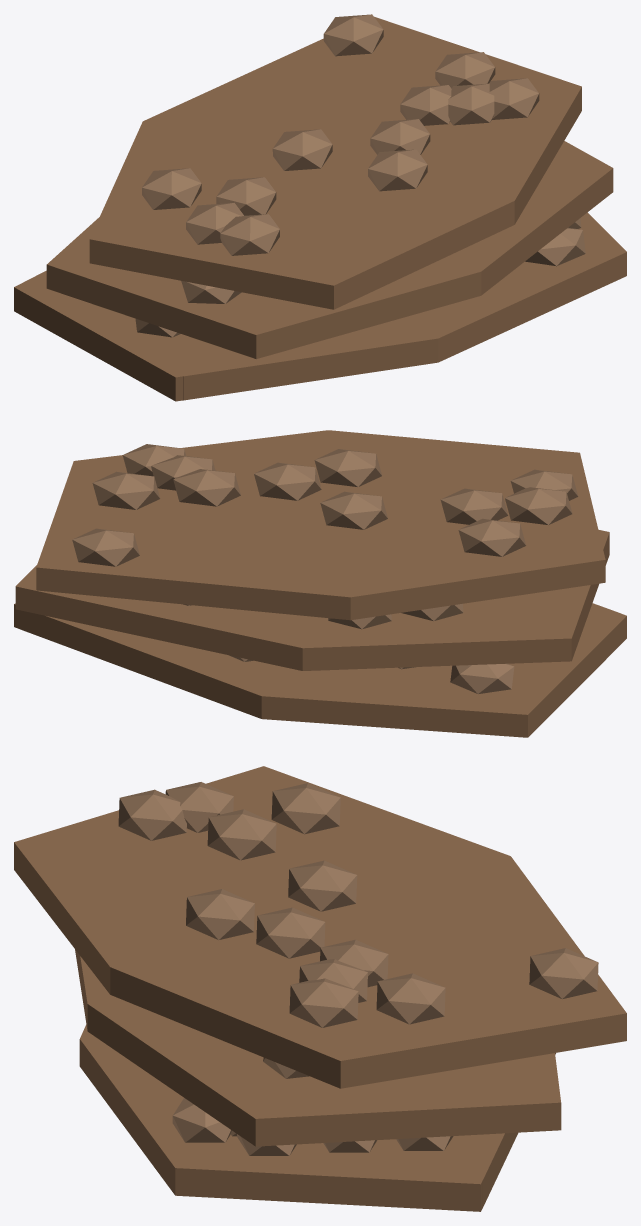
Rendered from Leather_Fur.fbx.
3 views of the same model, one above another, from view 1: azimuth 30°, elevation 25°; view 2: azimuth 150°, elevation 25°; view 3: azimuth 270°, elevation 25° (orthographic). The views are drawn at different scales.
Parts seen in each view (by area): view 1: Leather_Fur__Stack, Leather_Fur; view 2: Leather_Fur__Stack, Leather_Fur; view 3: Leather_Fur__Stack, Leather_Fur.
Part boxes in pixels (x1,y1,x2,y2): Leather_Fur__Stack: (46, 14, 626, 400); Leather_Fur: (14, 218, 589, 401); Leather_Fur__Stack: (14, 430, 621, 693); Leather_Fur: (19, 609, 626, 737); Leather_Fur__Stack: (14, 766, 626, 1211); Leather_Fur: (201, 1053, 555, 1207).
Size of the model in its own units: 0.1846 by 0.0533 by 0.1605.
